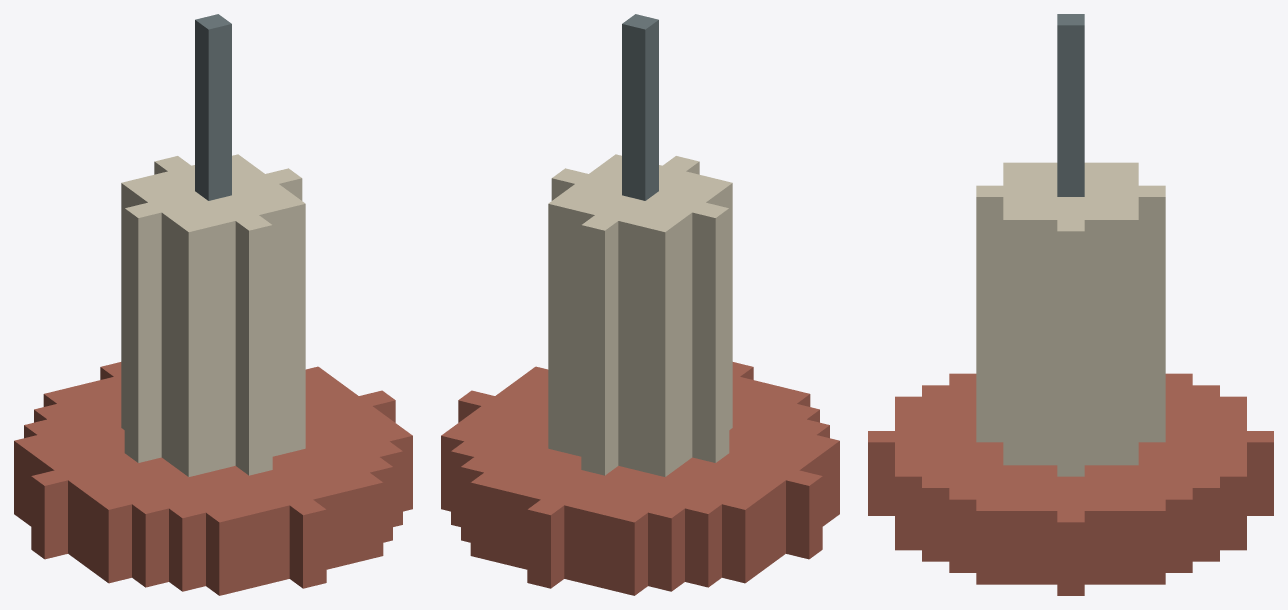
The model's file is ocean-07.glb.
3 renders of one model, left to right at view 1: azimuth 30°, elevation 25°; view 2: azimuth 150°, elevation 25°; view 3: azimuth 270°, elevation 25°, orthographic.
Visible parts, largest first — view 1: Ocean buoy; view 2: Ocean buoy; view 3: Ocean buoy.
Boxes of the visible parts, <box> form: Ocean buoy: <box>14,14,412,595</box>; Ocean buoy: <box>441,14,839,595</box>; Ocean buoy: <box>868,14,1273,595</box>.
Size of the model in its own units: 1.2 by 1.6 by 1.2.
